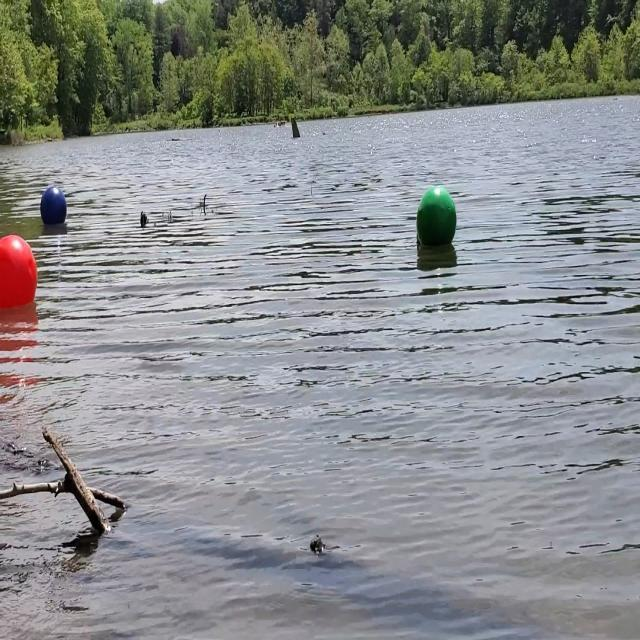buoy: (413, 184, 460, 258), (0, 232, 40, 314), (39, 181, 69, 235)
